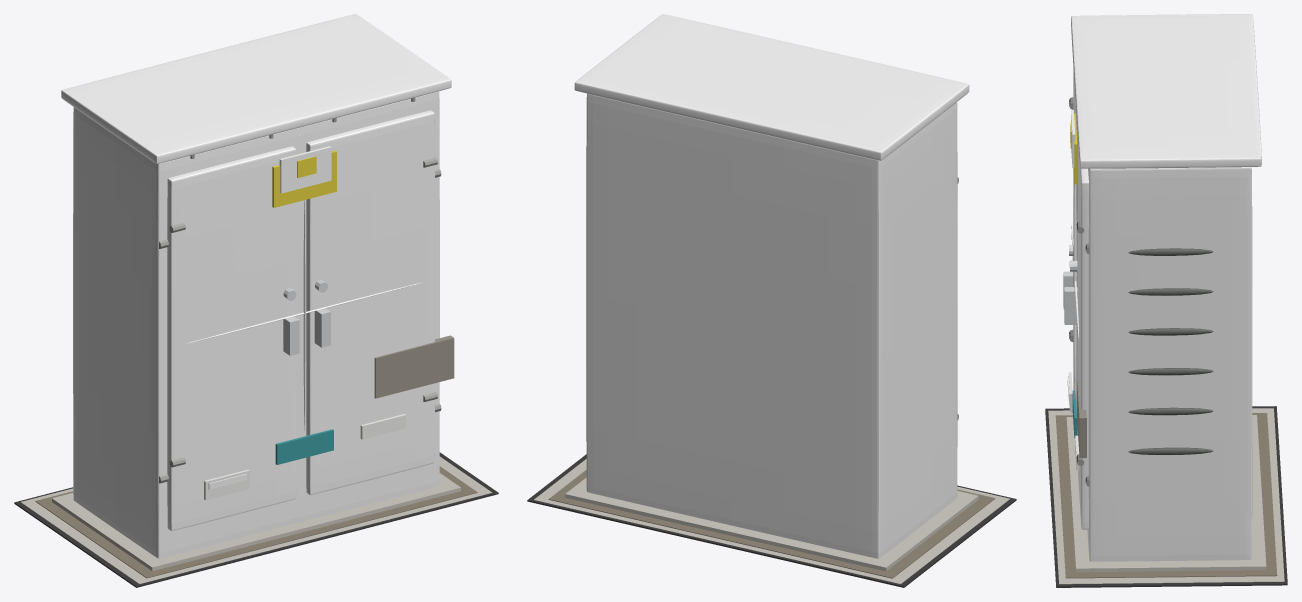
File: hm_prop_utility_cabinet_v2.glb
The picture shows the model from 3 angles, left to right: view 1: azimuth 30°, elevation 25°; view 2: azimuth 150°, elevation 25°; view 3: azimuth 270°, elevation 25°; orthographic projection.
Parts seen in each view (by area): view 1: Cab_Body, Cab_Door_L, Cab_Door_R, Cab_Lip, Cab_Salt, hm_prop_utility_cabinet_v2_Dirt, hm_prop_utility_cabinet_v2_SaltRing, Cab_Scuff, hm_prop_utility_cabinet_v2_Shadow, hm_prop_utility_cabinet_v2_UtilWarn, Cab_Tel, Cab_Warn (+4 smaller); view 2: Cab_Body, Cab_Lip, Cab_Salt, hm_prop_utility_cabinet_v2_Dirt, hm_prop_utility_cabinet_v2_SaltRing, hm_prop_utility_cabinet_v2_Shadow; view 3: Cab_Body, Cab_Lip, hm_prop_utility_cabinet_v2_Dirt, Cab_Salt, hm_prop_utility_cabinet_v2_SaltRing, Cab_Door_R, hm_prop_utility_cabinet_v2_Shadow, Cab_Door_L, Cab_Vent_4, Cab_Vent_3, Cab_Vent_5, Cab_Vent_1 (+5 smaller).
Part boxes in pixels (left/top/right/bottom): Cab_Body: left=73, top=91, right=439, bottom=558; Cab_Door_L: left=167, top=146, right=296, bottom=530; Cab_Door_R: left=306, top=110, right=434, bottom=494; Cab_Lip: left=61, top=14, right=451, bottom=163; Cab_Salt: left=52, top=473, right=460, bottom=570; hm_prop_utility_cabinet_v2_Dirt: left=35, top=466, right=477, bottom=578; hm_prop_utility_cabinet_v2_SaltRing: left=21, top=456, right=492, bottom=584; Cab_Scuff: left=374, top=335, right=454, bottom=398; hm_prop_utility_cabinet_v2_Shadow: left=14, top=452, right=498, bottom=587; hm_prop_utility_cabinet_v2_UtilWarn: left=279, top=146, right=331, bottom=193; Cab_Tel: left=275, top=429, right=333, bottom=464; Cab_Warn: left=272, top=150, right=336, bottom=207; Cab_Body: left=586, top=93, right=957, bottom=558; Cab_Lip: left=574, top=14, right=969, bottom=160; Cab_Salt: left=565, top=477, right=978, bottom=571; hm_prop_utility_cabinet_v2_Dirt: left=548, top=470, right=995, bottom=578; hm_prop_utility_cabinet_v2_SaltRing: left=534, top=459, right=1009, bottom=584; hm_prop_utility_cabinet_v2_Shadow: left=527, top=454, right=1016, bottom=587; Cab_Body: left=1087, top=167, right=1252, bottom=561; Cab_Lip: left=1071, top=14, right=1261, bottom=168; hm_prop_utility_cabinet_v2_Dirt: left=1055, top=413, right=1277, bottom=578; Cab_Salt: left=1066, top=415, right=1266, bottom=572; hm_prop_utility_cabinet_v2_SaltRing: left=1048, top=408, right=1284, bottom=584; Cab_Door_R: left=1077, top=138, right=1088, bottom=529; hm_prop_utility_cabinet_v2_Shadow: left=1045, top=406, right=1287, bottom=587; Cab_Door_L: left=1073, top=69, right=1077, bottom=435; Cab_Vent_4: left=1128, top=288, right=1213, bottom=295; Cab_Vent_3: left=1128, top=328, right=1213, bottom=335; Cab_Vent_5: left=1128, top=248, right=1213, bottom=255; Cab_Vent_1: left=1128, top=407, right=1213, bottom=415.
Bounding box in the file's own units: 1.17 × 1.24 × 0.6624.
